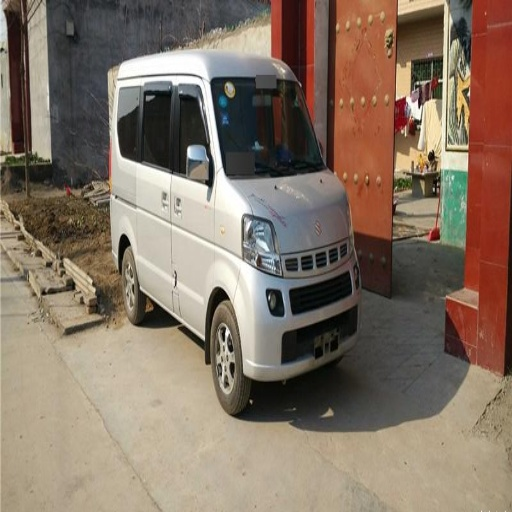front_bumper: (233, 238, 360, 379)
front_right_door: (170, 79, 214, 318)
front_right_light: (240, 213, 281, 275)
